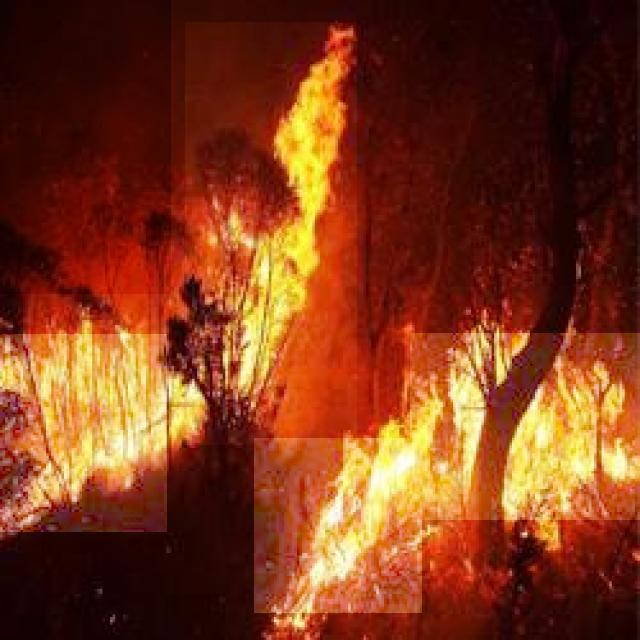Fire: (185, 22, 357, 445), (410, 333, 640, 520), (0, 334, 167, 532), (254, 438, 422, 613)
Smoke: (396, 24, 632, 332), (0, 0, 171, 294)
